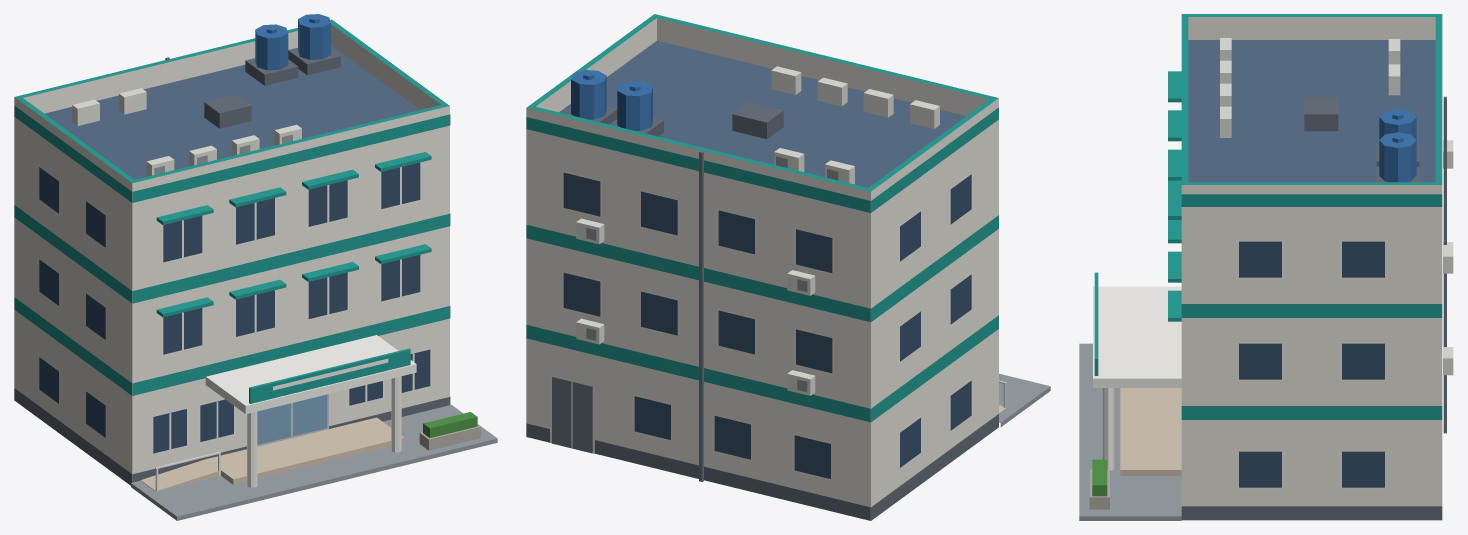
Rendered from kantor_02.glb.
The picture shows the model from 3 angles, left to right: view 1: azimuth 30°, elevation 25°; view 2: azimuth 150°, elevation 25°; view 3: azimuth 270°, elevation 25°; orthographic projection. The views are drawn at different scales.
Visible parts, largest first — view 1: kantor_02; view 2: kantor_02; view 3: kantor_02.
Boxes of the visible parts, x1,y1,x2,y2 form: kantor_02: (14, 14, 497, 520); kantor_02: (526, 14, 1050, 520); kantor_02: (1079, 14, 1453, 520).
Bounding box in the file's own units: 12 × 11.77 × 10.98.
